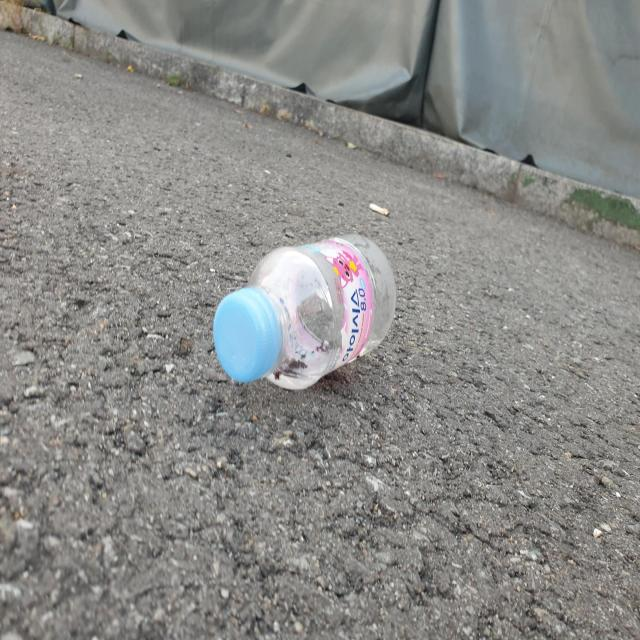plastic: (214, 234, 396, 390)
